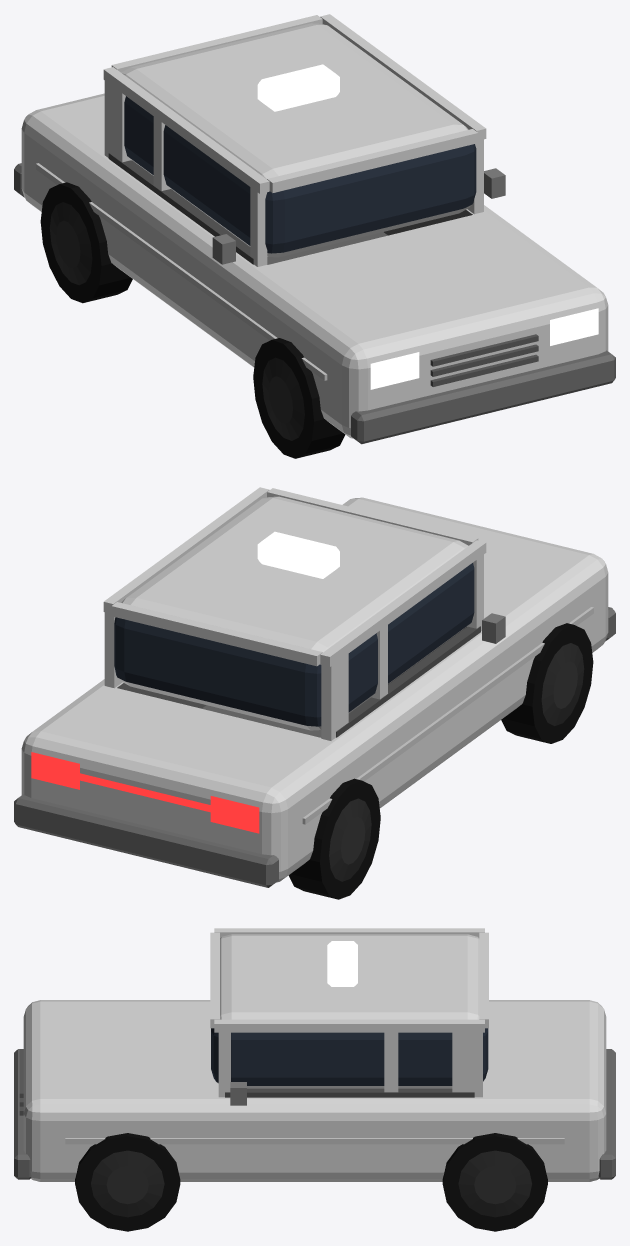
The model's file is taxi.glb.
3 views of the same model, one above another, from view 1: azimuth 30°, elevation 25°; view 2: azimuth 150°, elevation 25°; view 3: azimuth 270°, elevation 25° (orthographic). The views are drawn at different scales.
Visible parts, largest first — view 1: Body, WheelRL, WheelFL; view 2: Body, WheelRL, WheelFL; view 3: Body, WheelRR, WheelFR.
Boxes of the visible parts, box(x1,y1,x2,y2) form: Body: box(14, 14, 615, 444); WheelRL: box(40, 182, 132, 303); WheelFL: box(253, 338, 345, 458); Body: box(14, 487, 615, 887); WheelRL: box(288, 778, 380, 899); WheelFL: box(501, 623, 593, 743); Body: box(14, 928, 615, 1181); WheelRR: box(442, 1133, 547, 1231); WheelFR: box(75, 1133, 180, 1231).
Bounding box in the file's own units: 2.05 × 1.74 × 4.34.
